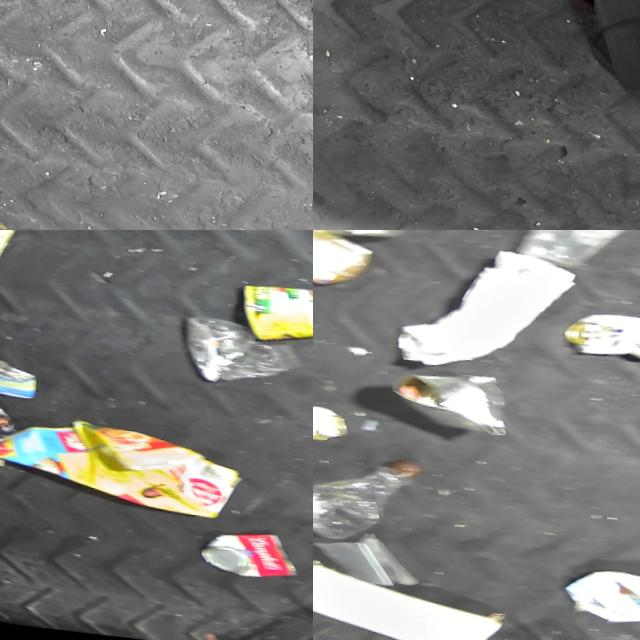can: (386, 361, 516, 437), (196, 523, 300, 582), (233, 277, 313, 351), (556, 302, 640, 366), (0, 356, 42, 400)
plastic_bottle: (313, 444, 425, 549), (313, 230, 379, 291)
